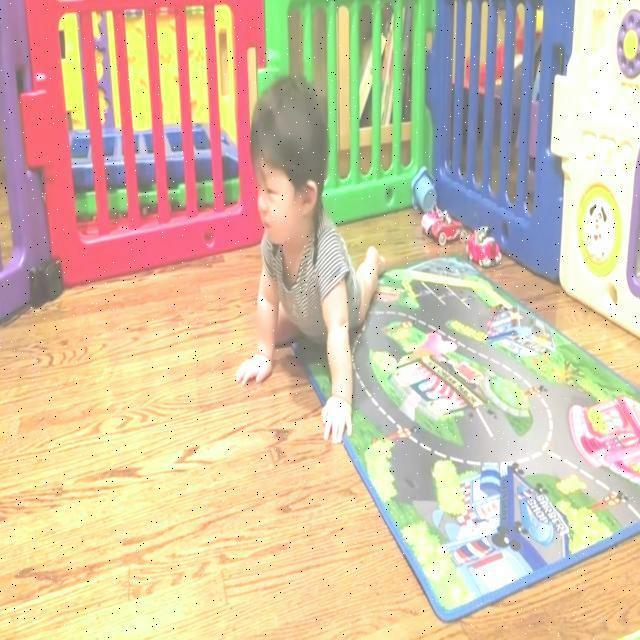child: (236, 73, 386, 444)
